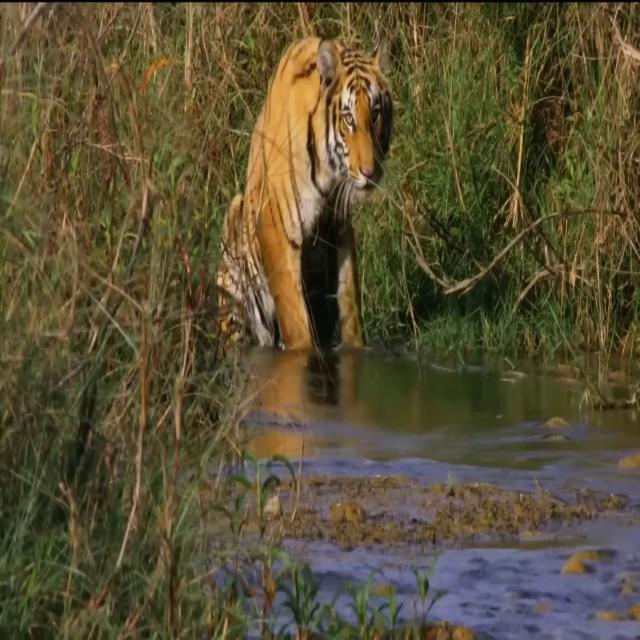tiger: (217, 29, 393, 350)
